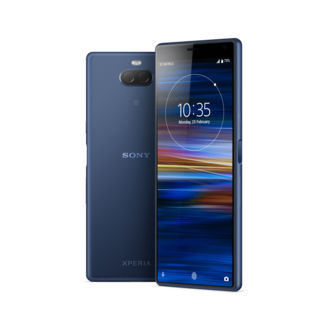phone: (152, 37, 246, 296)
